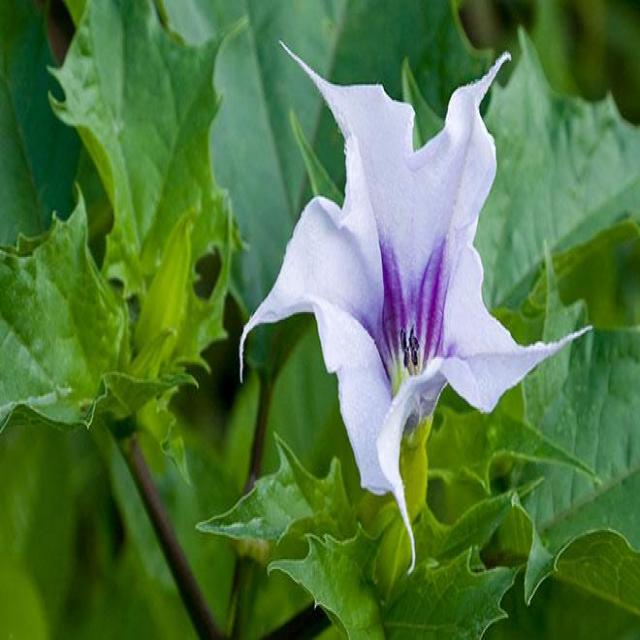organic waste: (250, 42, 562, 509)
